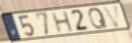2: (70, 9, 90, 32)
5: (17, 14, 36, 38)
7: (34, 11, 51, 36)
H: (51, 9, 75, 34)
Q: (87, 6, 109, 30)
V: (101, 3, 121, 29)
